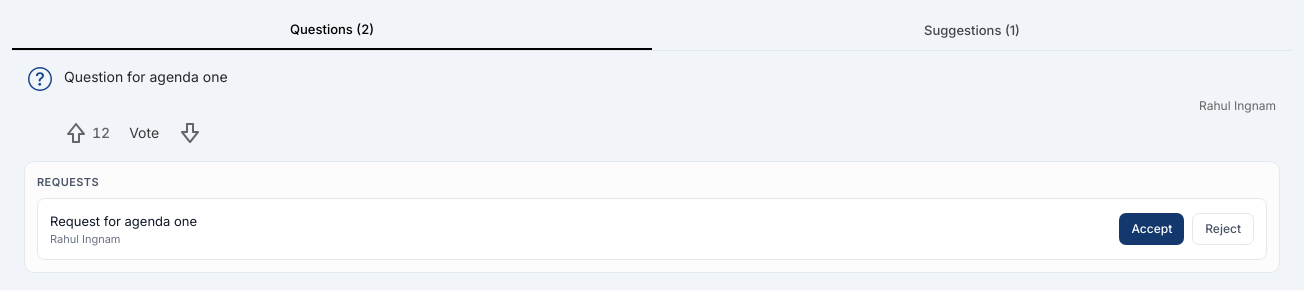
Test: requests inside the live room boards › shows only board entries and requests linked to the running agenda
Expected: the text "Question for agenda one" is shown, [64,68,228,84]
Expected: the text "Request for agenda one" is shown, [50,213,197,229]
Step 1. Click the tab "Suggestions (1)" → (972, 31), box [652,12,1292,50]
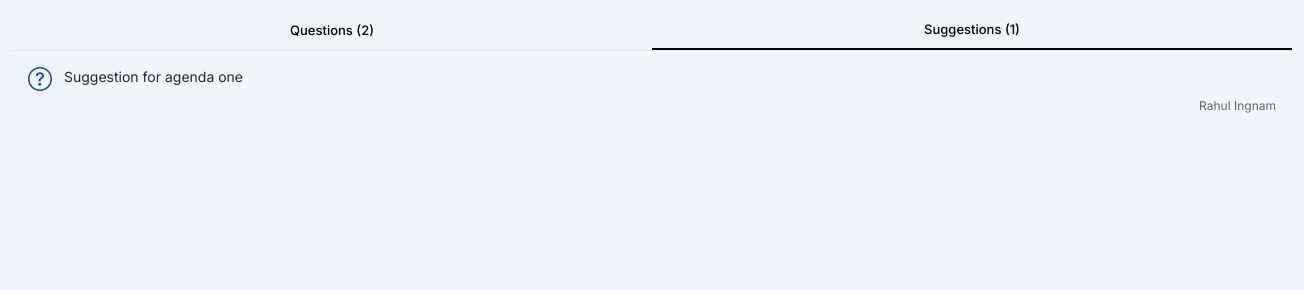
Expected: the text "Suggestion for agenda one" is shown, [64,68,243,84]
